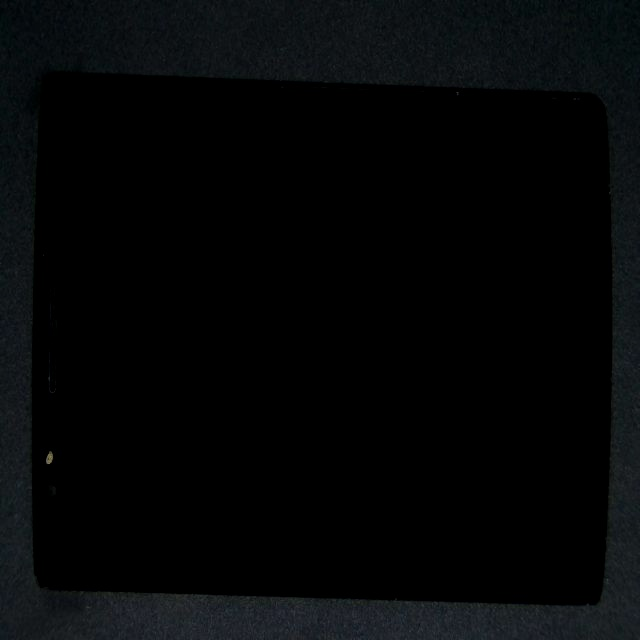stain: (33, 204, 67, 640)
